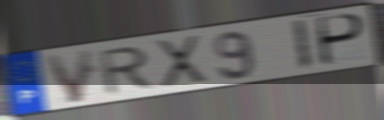9: (212, 29, 258, 81)
I: (290, 17, 315, 73)
P: (317, 12, 368, 69)
R: (98, 43, 158, 98)
V: (42, 47, 97, 106)
X: (153, 33, 210, 89)
